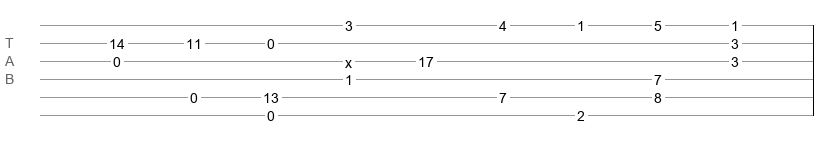0: (113, 54, 121, 64), (190, 90, 198, 100), (267, 36, 275, 46), (267, 108, 275, 118)
1: (345, 72, 353, 82), (577, 18, 585, 28), (731, 18, 739, 28)
11: (186, 36, 202, 46)
13: (263, 90, 279, 100)
14: (109, 36, 125, 46)
17: (418, 54, 434, 64)
2: (577, 108, 585, 118)
3: (345, 18, 353, 28), (731, 36, 739, 46), (731, 54, 739, 64)
4: (499, 18, 507, 28)
5: (654, 18, 662, 28)
7: (499, 90, 507, 100), (654, 72, 662, 82)
8: (654, 90, 662, 100)
x: (345, 55, 352, 63)
